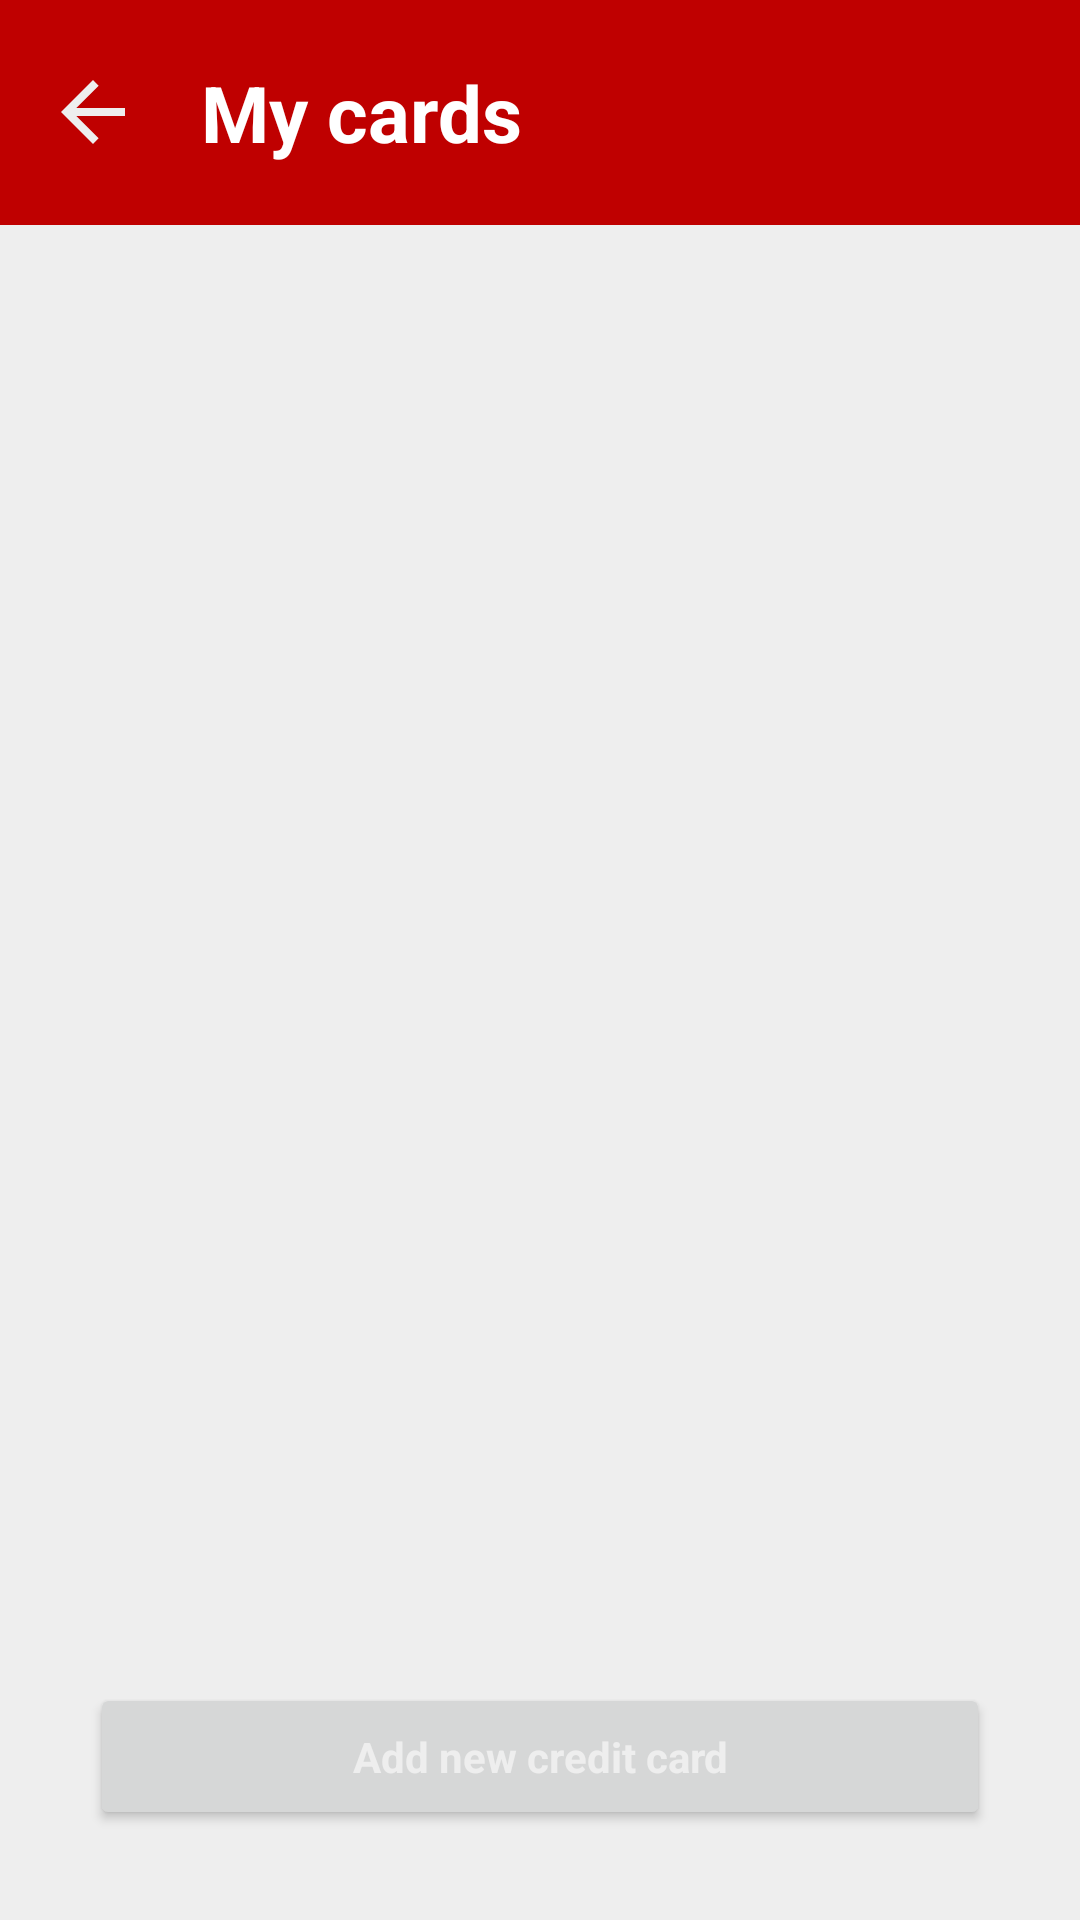

Point at icon controls on the screen. Image size 1080×1920, points as [x,y].
arrow back: [93,112]
